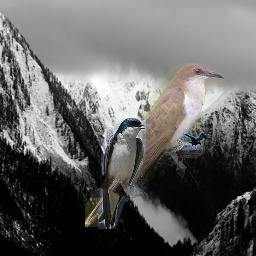Crow: (182, 132, 204, 150)
Cuckoo: (85, 63, 225, 227)
Swallow: (98, 118, 146, 229)
